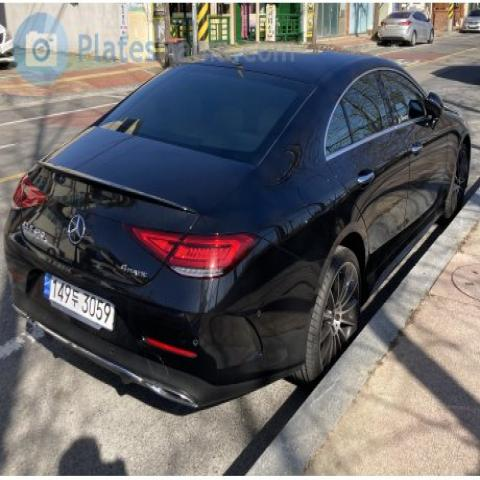LP: (32, 257, 127, 346)
